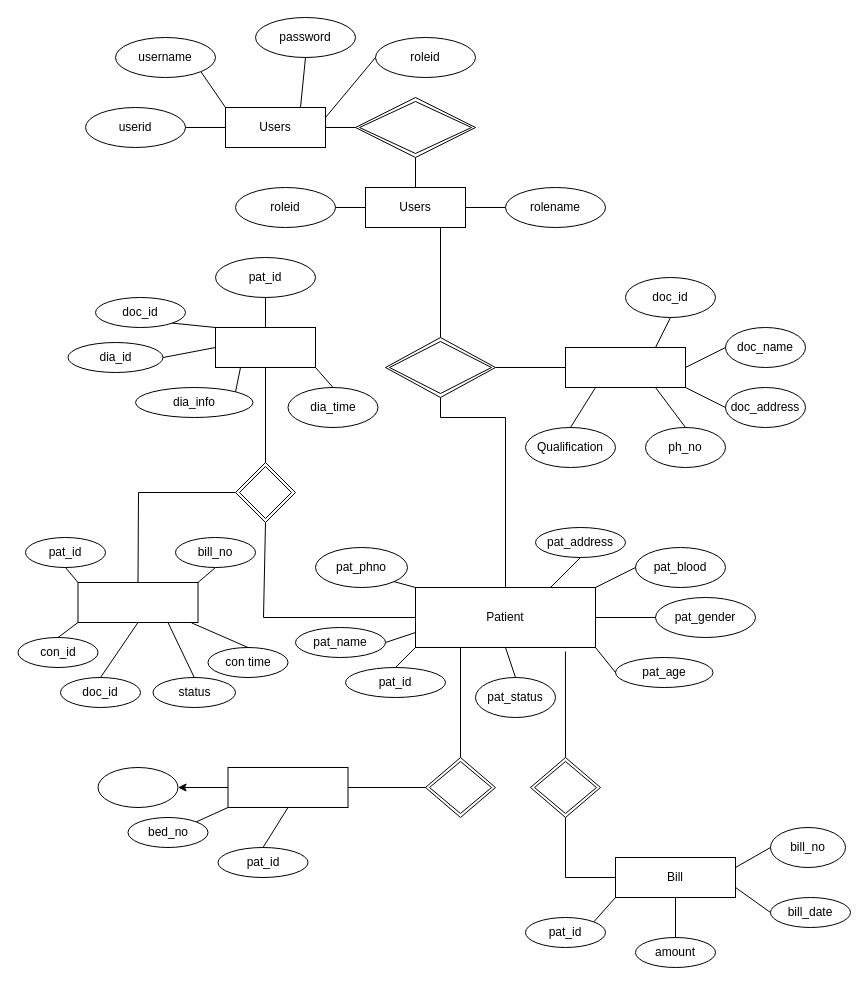
The diagram is 868 pixels wide and 985 high, and some of its shapes have lost their labels. Each missing label, with the centre of its shape:
"Assign Bed" belongs at [460,787].
"bed" belongs at [287,787].
"consultation" belongs at [137,602].
"consults" belongs at [265,492].
"diagonostics" belongs at [265,347].
"Doctor" belongs at [625,367].
"Generate Bill" belongs at [565,787].
"Has Valid Role" belongs at [440,367].
"Login" belongs at [415,127].
